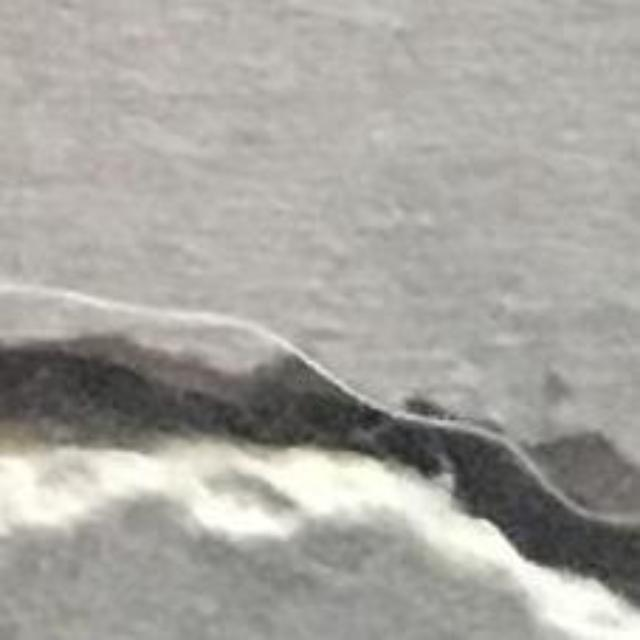crack: (0, 285, 639, 639)
